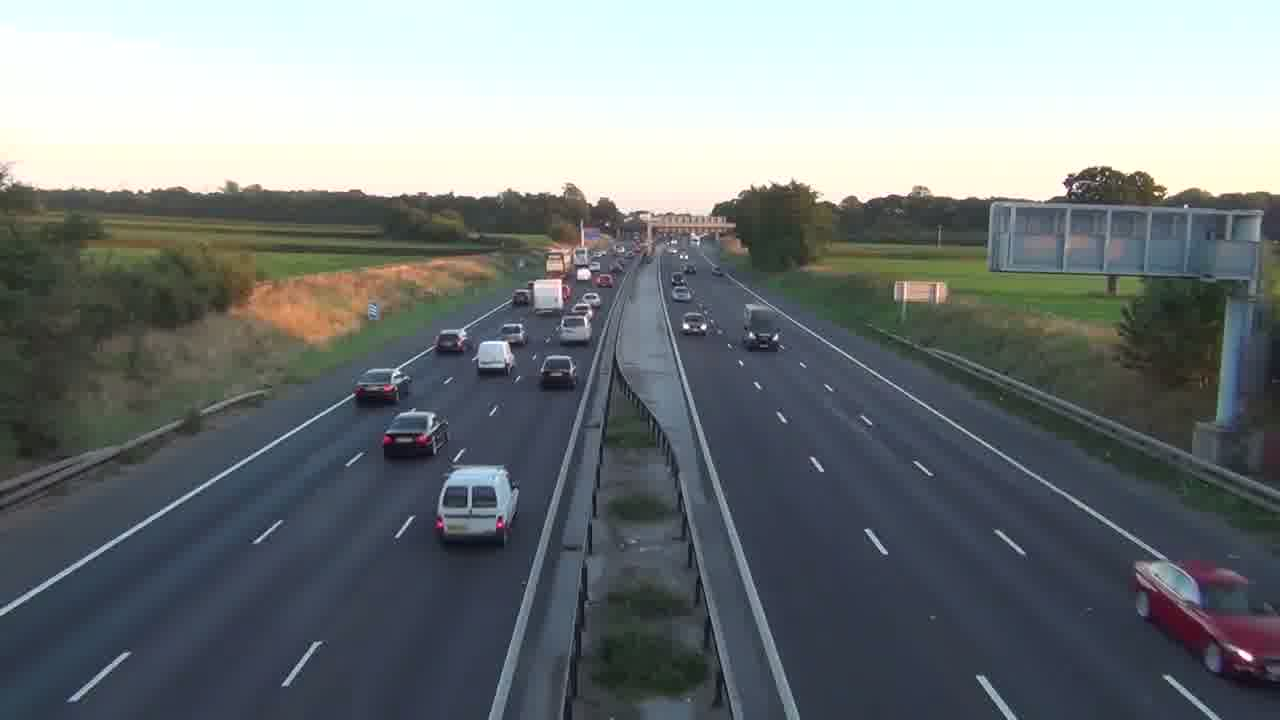car: (380, 409, 450, 458), (352, 367, 407, 404), (538, 353, 577, 389), (435, 328, 469, 354), (498, 321, 527, 344)
truck: (1131, 558, 1279, 685), (433, 465, 520, 547), (530, 278, 565, 315)
